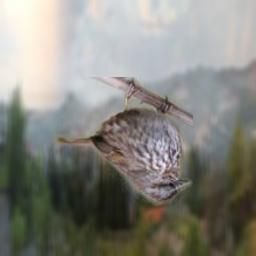Sparrow: (53, 77, 193, 207)
